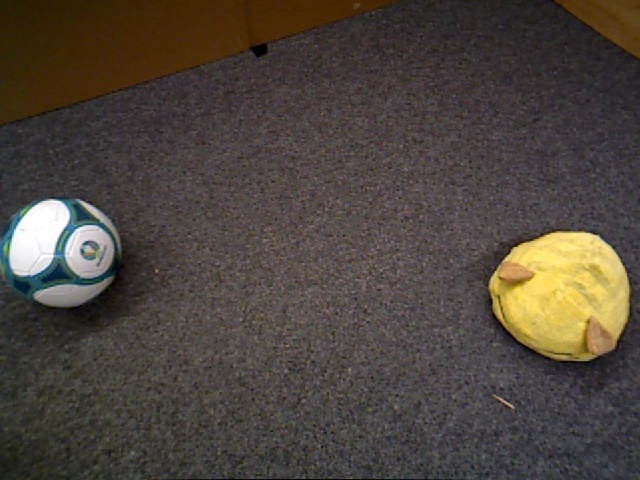grasp: (488, 230, 632, 363)
kick: (3, 195, 122, 310)
